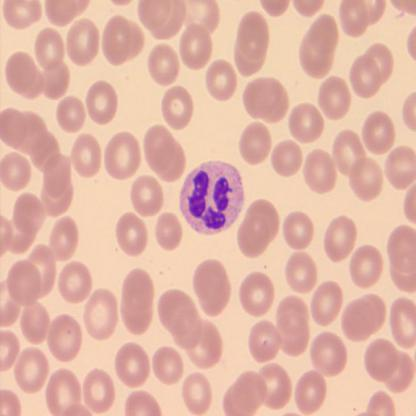Segmented neutrophil: (178, 159, 246, 237)
